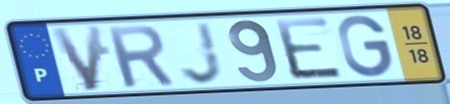9: (226, 18, 282, 85)
E: (271, 15, 348, 82)
G: (336, 13, 396, 80)
J: (178, 20, 227, 87)
R: (102, 23, 178, 90)
V: (47, 22, 106, 94)
